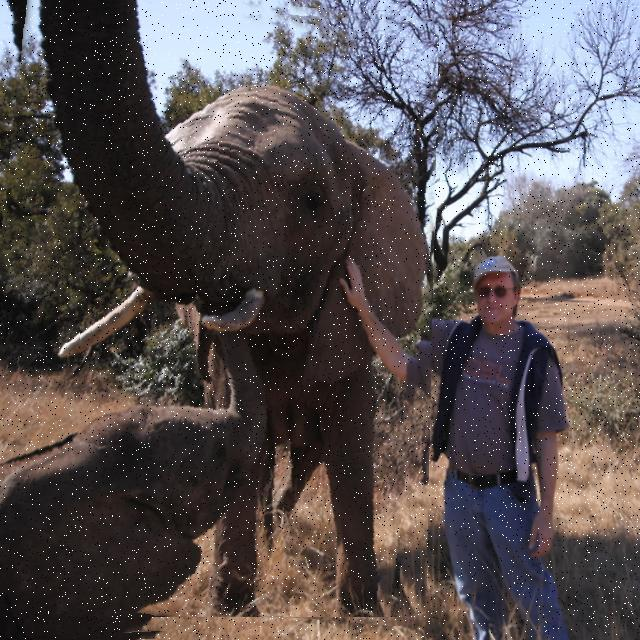elephant: (0, 0, 439, 617), (0, 340, 290, 640)
